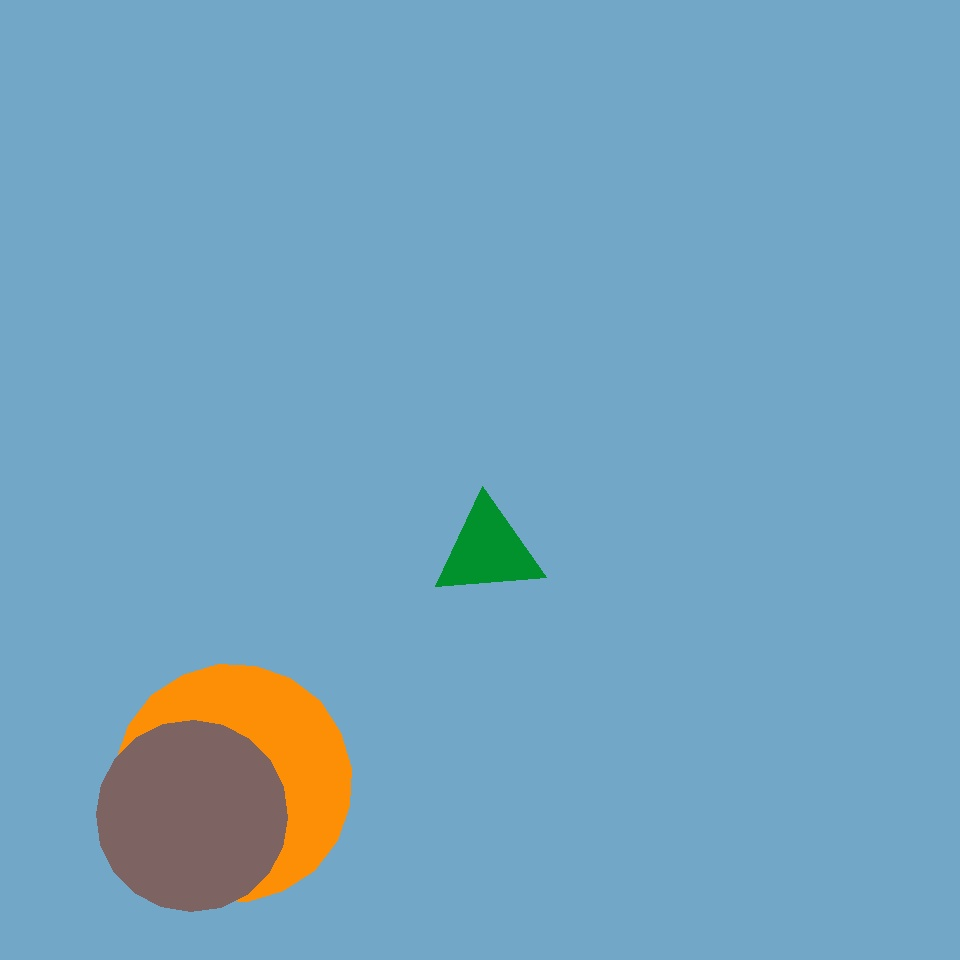circle: (475, 235, 615, 356), (226, 749, 331, 856), (432, 500, 544, 600), (551, 310, 624, 393)
square: (325, 433, 508, 615)
triangle: (114, 665, 352, 902), (97, 720, 288, 912)
